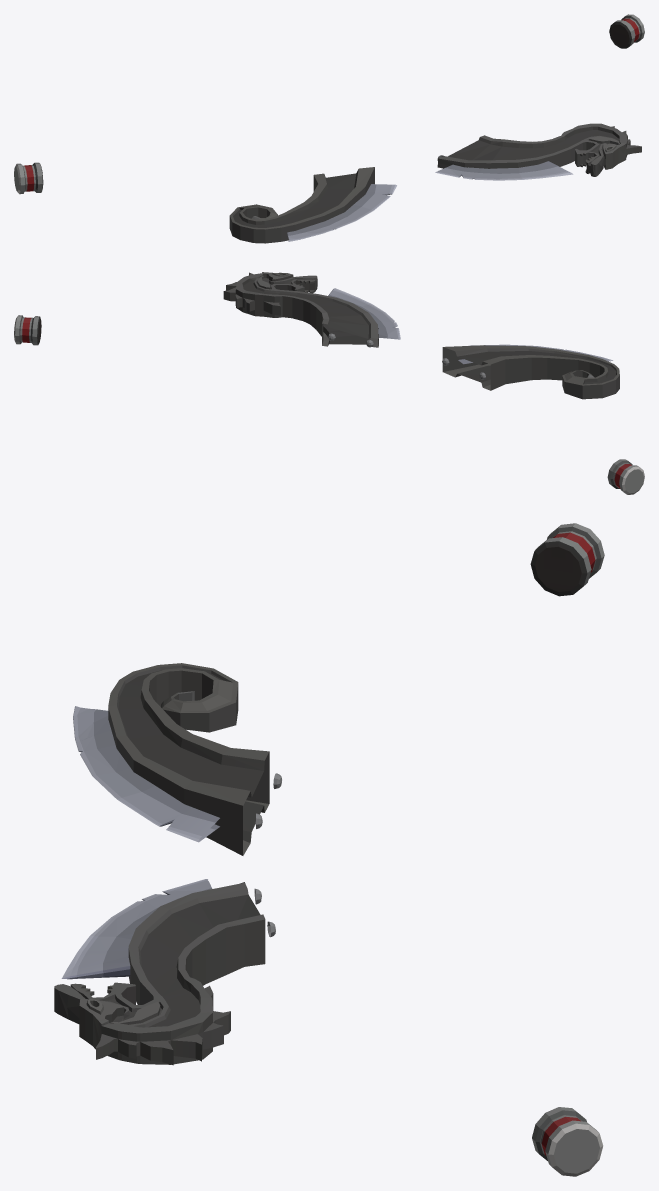
The model's file is largeCrossbowVikingDrekiTip.glb.
3 renders of one model, top to bottom at view 1: azimuth 30°, elevation 25°; view 2: azimuth 150°, elevation 25°; view 3: azimuth 270°, elevation 25°, orthographic. The views are drawn at different scales.
Visible parts, largest first — view 1: largeCrossbowVikingDrekiTip; view 2: largeCrossbowVikingDrekiTip; view 3: largeCrossbowVikingDrekiTip.
Boxes of the visible parts, <box> form: largeCrossbowVikingDrekiTip: <box>14,14,644,243</box>; largeCrossbowVikingDrekiTip: <box>14,272,644,494</box>; largeCrossbowVikingDrekiTip: <box>54,523,604,1176</box>.
Bounding box in the file's own units: 1.28 × 0.0661 × 0.4881.
